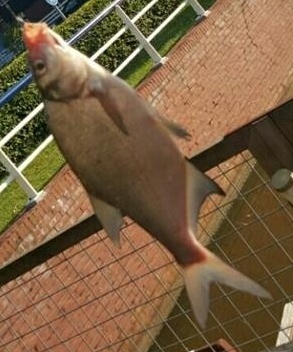Blicca bjoerkna: (20, 20, 273, 332)
